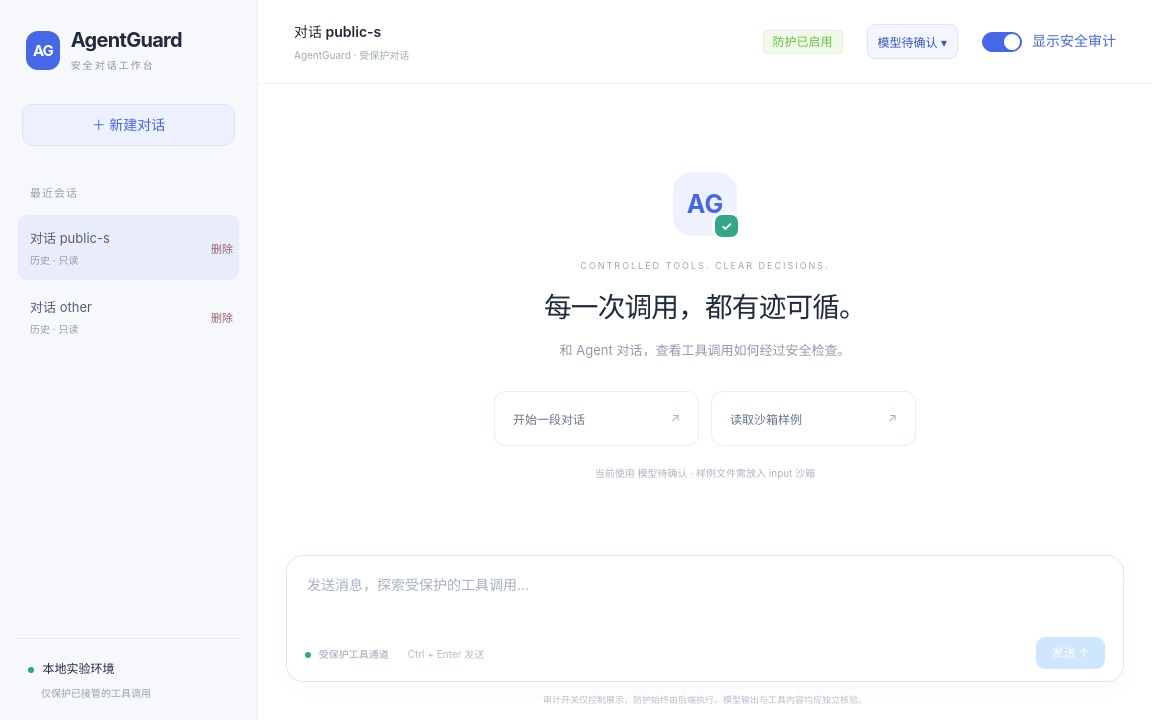
Test: P7 protected chat › opens the next session after deleting the current one and preserves unrelated sessions
Click the 1st button with class "delete-session".
click(222, 248)  # box [205,230,239,266]
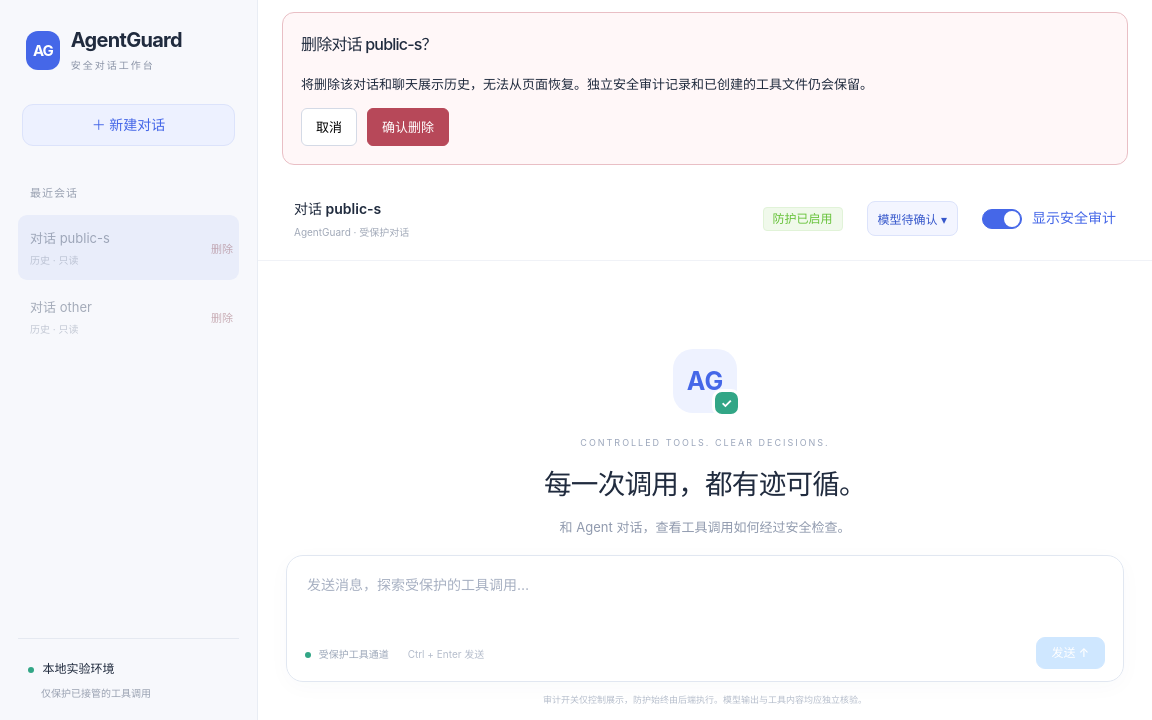
Click the button with class "confirm-delete".
click(408, 127)  # box [367,108,449,146]
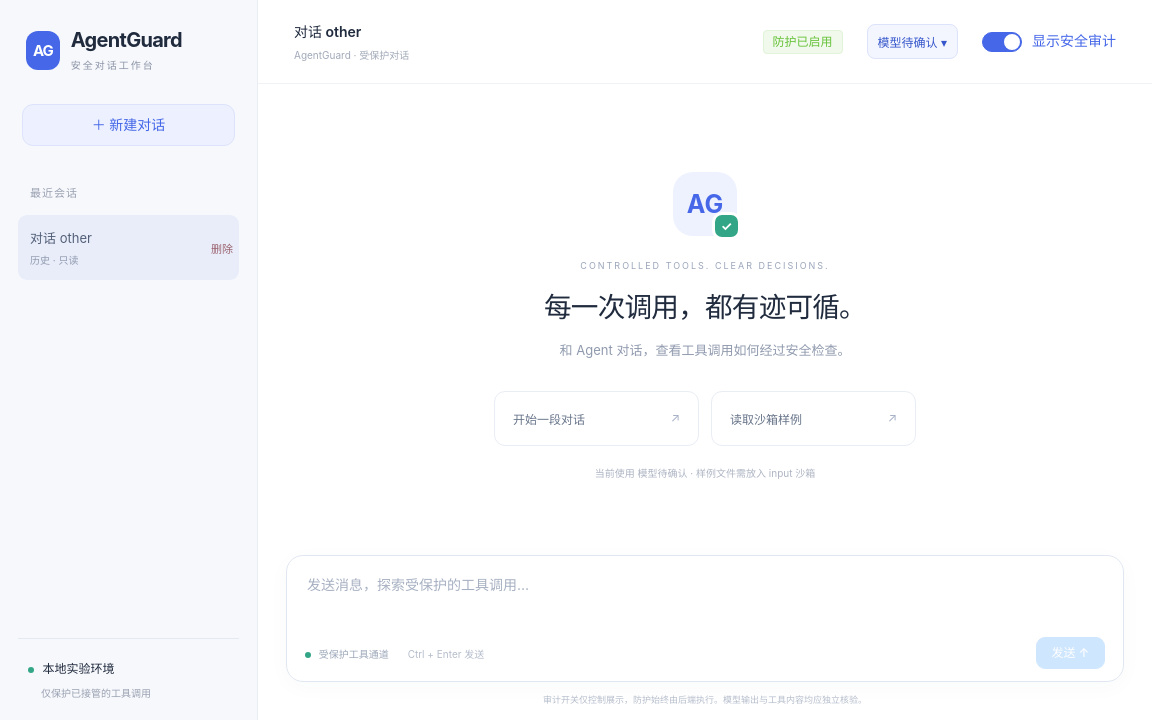
Expected: the number of elements with class "session-row" is 1, [18,215,239,280]
